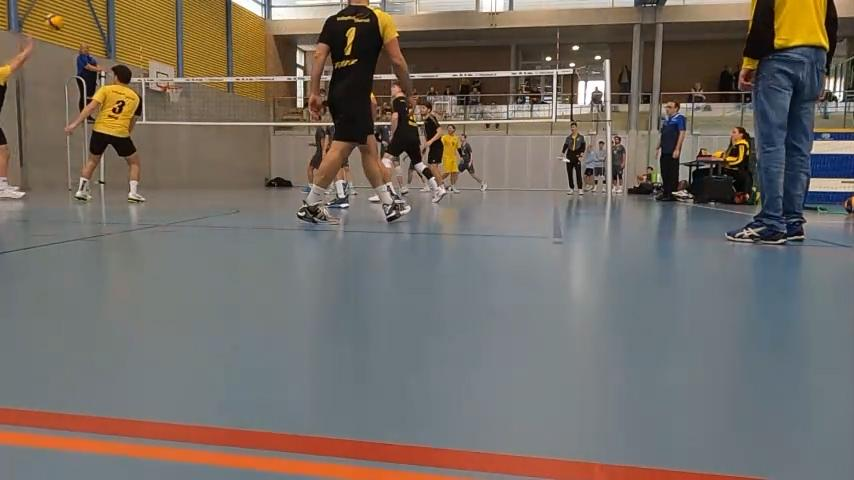Player: (297, 0, 409, 222), (65, 65, 144, 202), (383, 82, 446, 202), (305, 126, 330, 192), (458, 134, 486, 191), (422, 101, 442, 178), (441, 125, 460, 192)
Receive: (0, 29, 45, 237)
ball: (45, 13, 65, 30)
